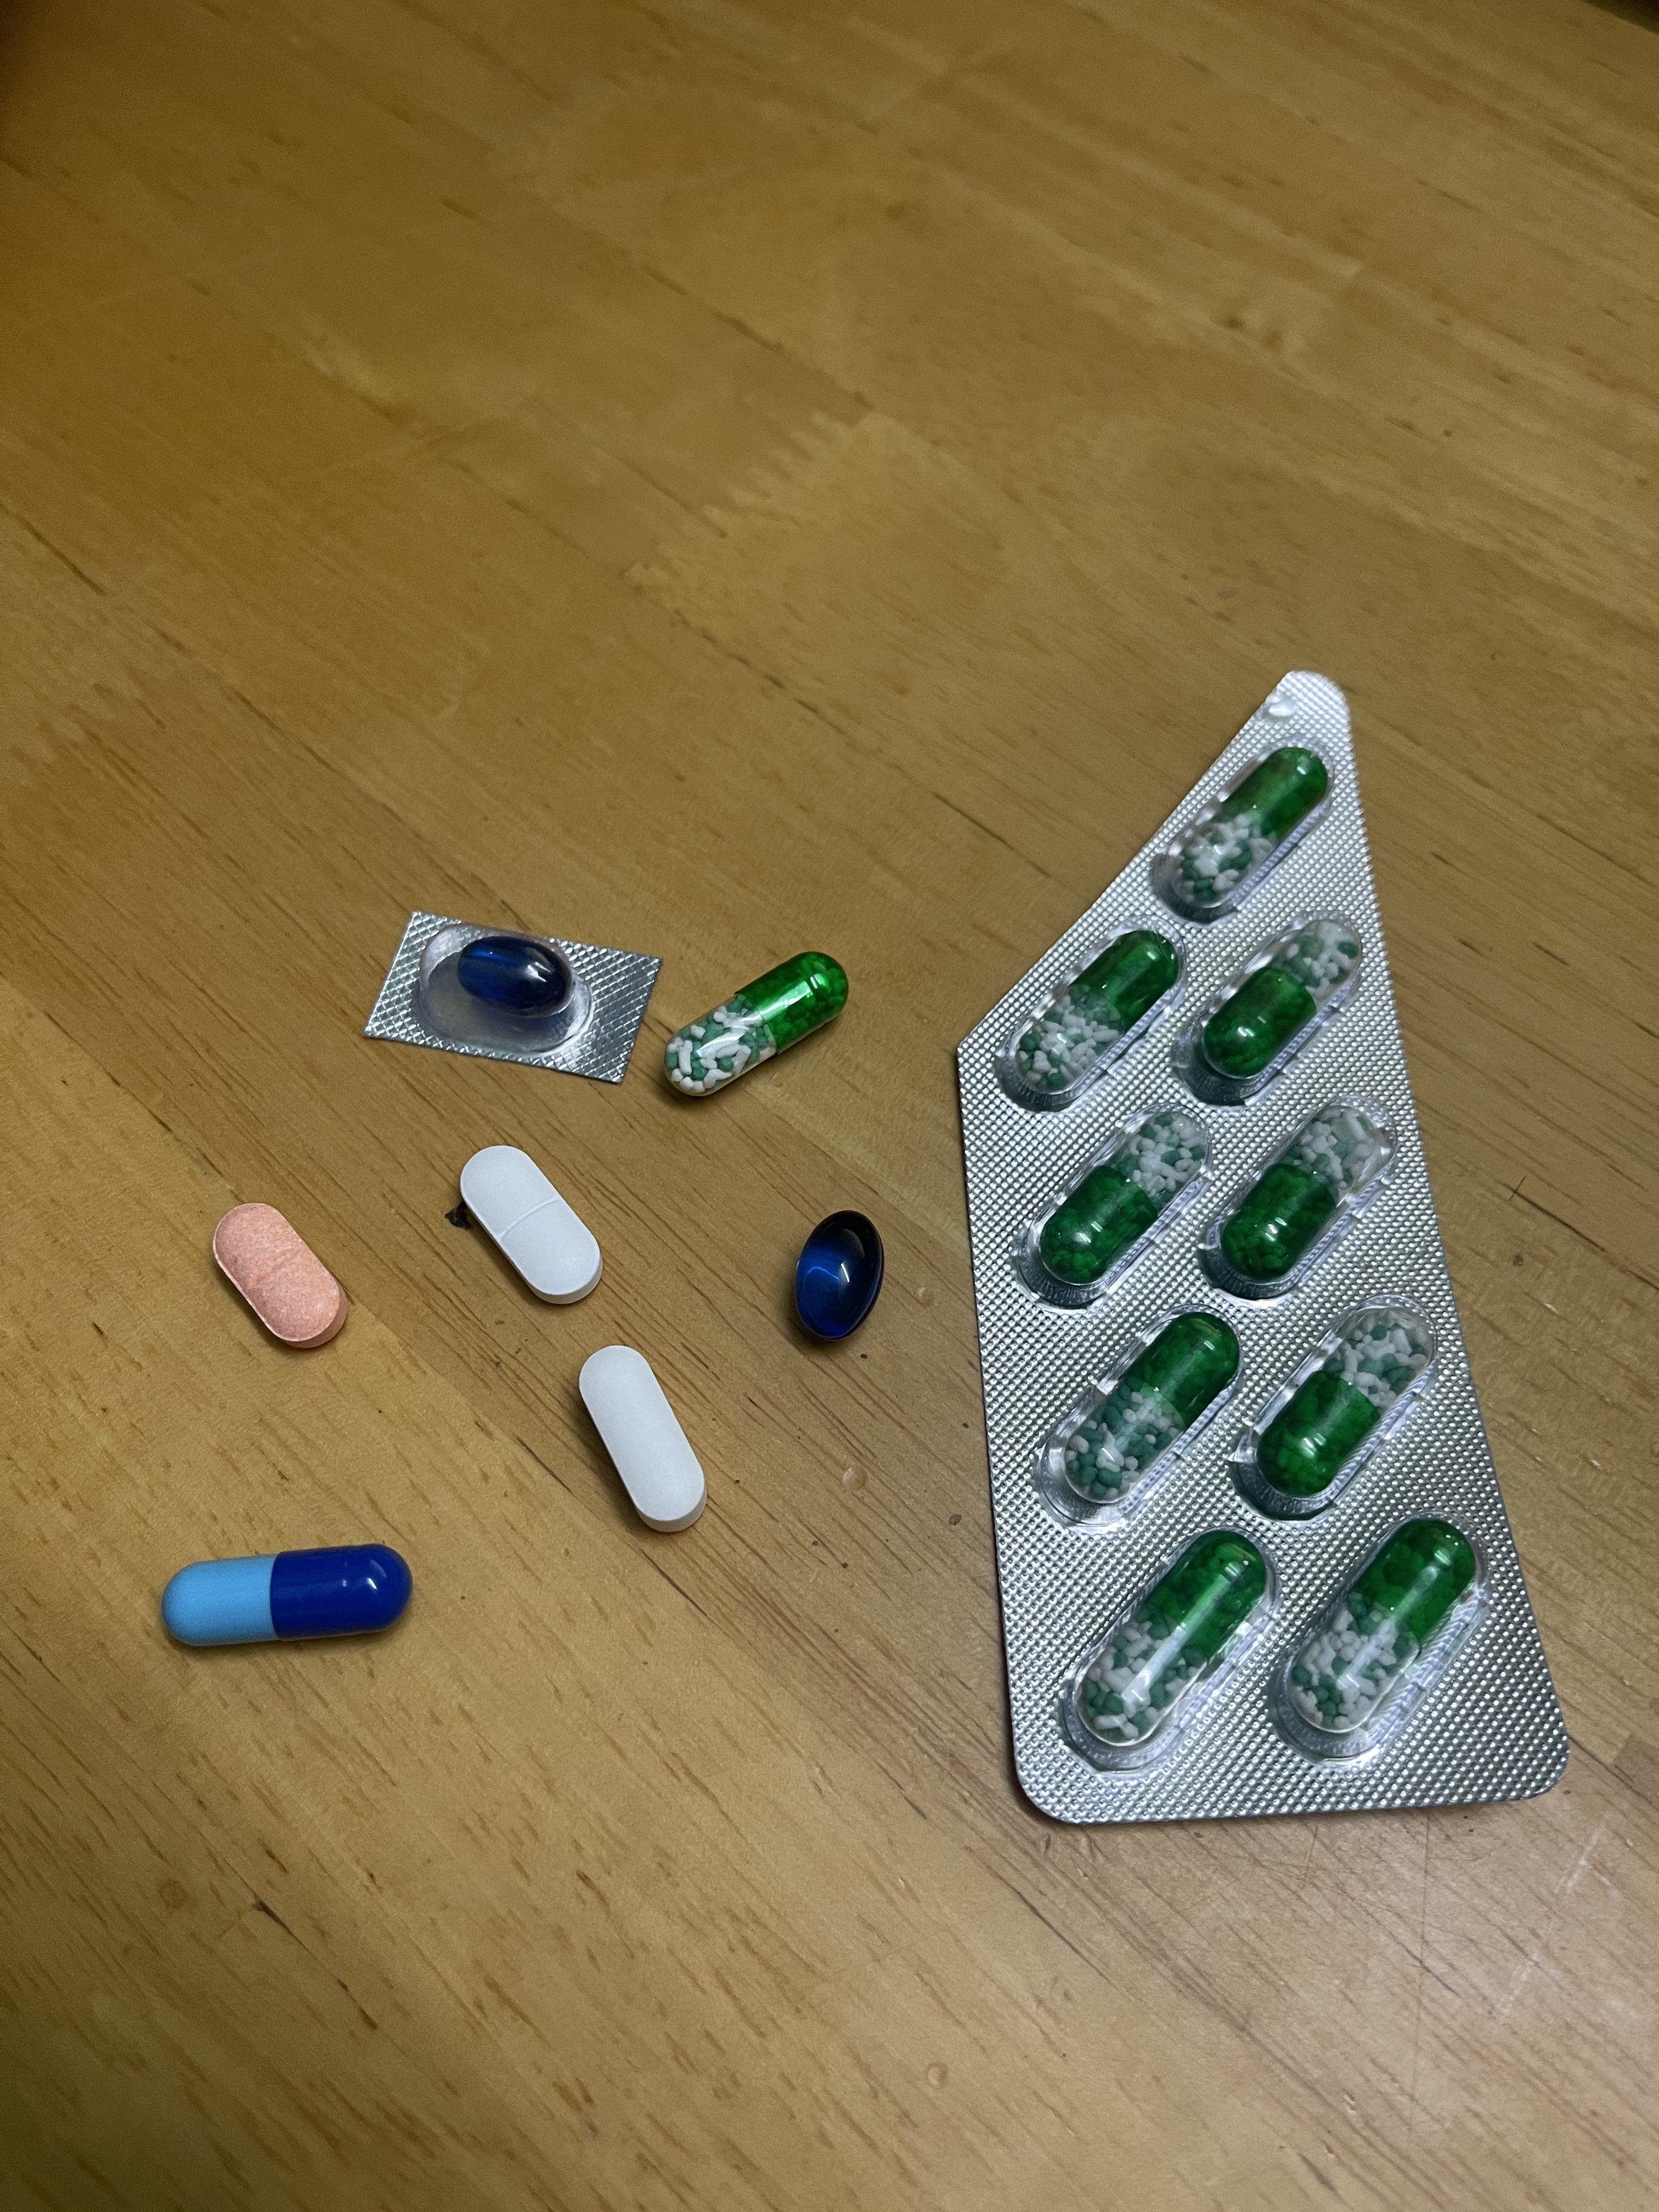Lincomyxin_500mg: (795, 1209, 884, 1343), (455, 934, 575, 1019)
Loratadine_10mg: (213, 1200, 347, 1346)
Paracetamol_350mg: (462, 1148, 601, 1301)
Paracetamol_500mg: (579, 1346, 706, 1526)
Paracetamol_650mg: (1072, 1529, 1267, 1756), (1286, 1519, 1476, 1745), (1049, 1310, 1239, 1508), (1248, 1303, 1432, 1505), (1206, 1097, 1391, 1289), (1028, 1101, 1209, 1294), (1180, 913, 1364, 1101), (1007, 923, 1180, 1104), (1166, 742, 1331, 920), (669, 956, 843, 1096)
pill: (169, 1550, 399, 1641)
